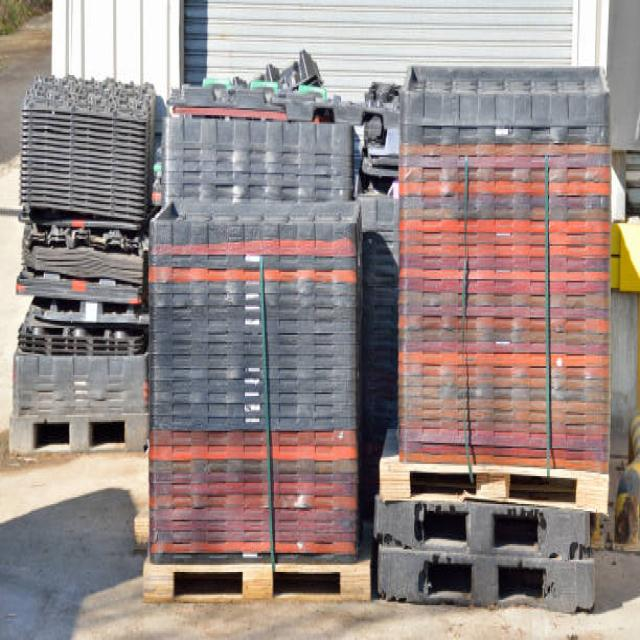Wooden-Pallets: (377, 453, 612, 513), (139, 552, 372, 606)
